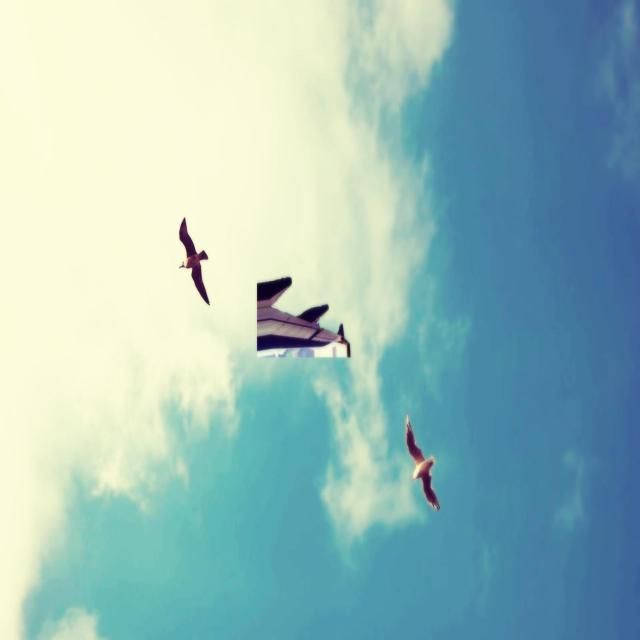airplane: (256, 275, 351, 358)
